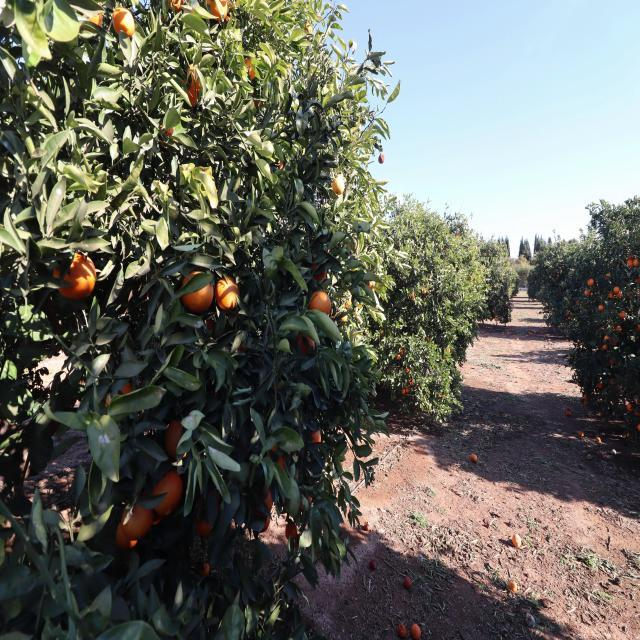Jeruk Sudah Matang: (184, 268, 216, 318), (56, 254, 94, 296), (119, 509, 152, 549), (150, 470, 180, 512), (166, 416, 195, 458), (106, 378, 132, 408), (111, 10, 135, 38), (217, 280, 239, 309), (184, 60, 206, 88), (310, 286, 330, 314), (205, 0, 225, 22), (242, 52, 258, 78), (308, 426, 324, 444), (333, 176, 344, 194)
